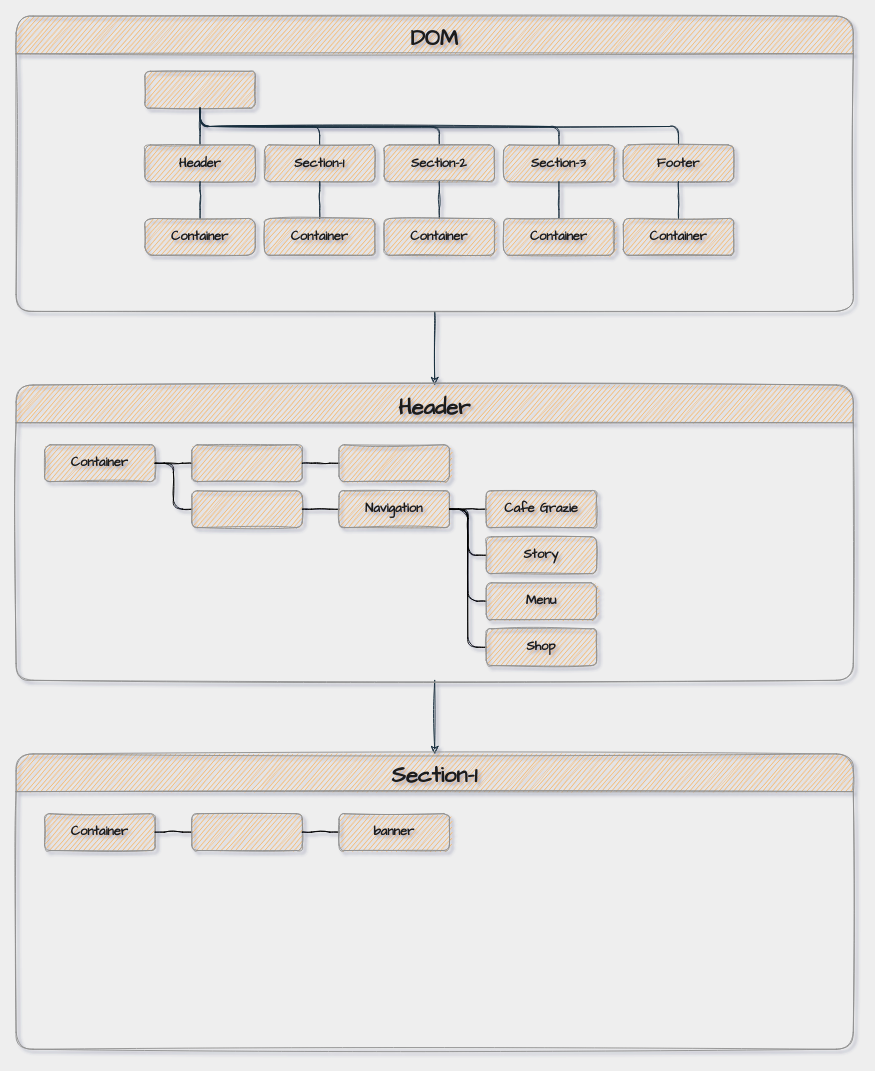
Image size: 875x1071. Some labels were removed from this diagram. Each missing label, with the centre of its shape:
"body" goes at point (199, 89).
"fullpage" goes at point (246, 832).
"Left" goes at point (246, 463).
"LOGO" goes at point (393, 463).
"Right" goes at point (246, 509).
